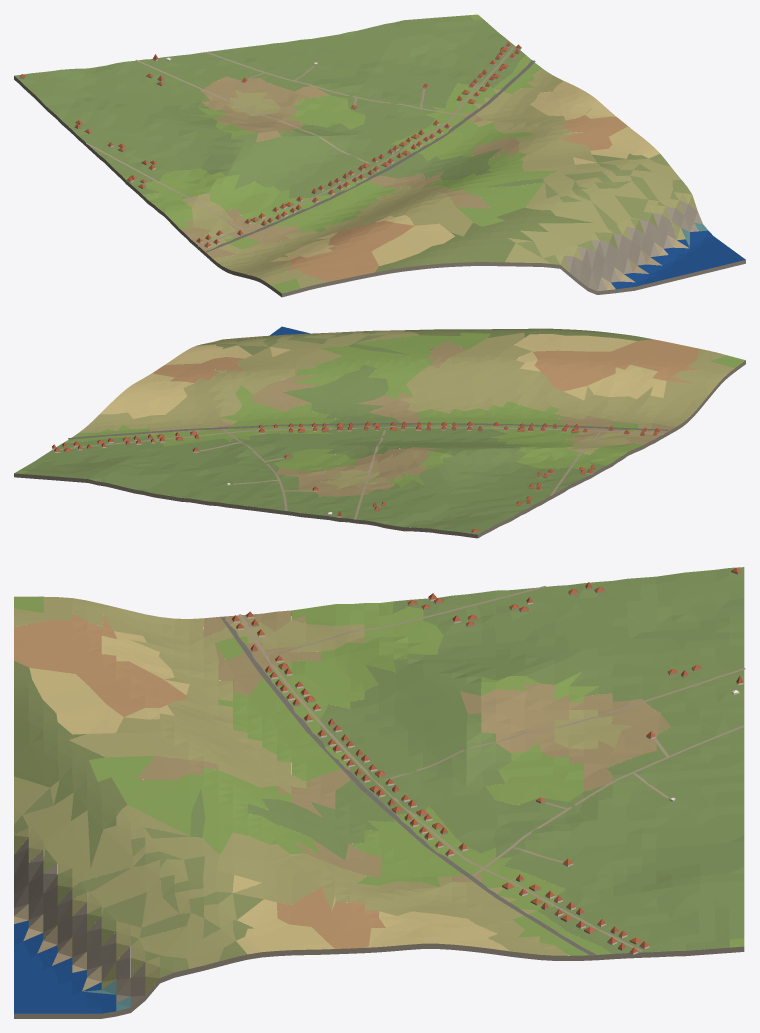
File: parca_+11_-7-uzak.glb
3 renders of one model, top to bottom at view 1: azimuth 30°, elevation 25°; view 2: azimuth 150°, elevation 25°; view 3: azimuth 270°, elevation 25°, orthographic. The views are drawn at different scales.
Visible parts, largest first — view 1: parca_+11_-7_arazi_uzak, parca_+11_-7_yollar_uzak, parca_+11_-7_yapilar_uzak; view 2: parca_+11_-7_arazi_uzak, parca_+11_-7_yollar_uzak, parca_+11_-7_yapilar_uzak; view 3: parca_+11_-7_arazi_uzak, parca_+11_-7_yollar_uzak, parca_+11_-7_yapilar_uzak.
Boxes of the visible parts, x1,y1,x2,y2 form: parca_+11_-7_arazi_uzak: (14,14,745,297); parca_+11_-7_yollar_uzak: (86,46,535,252); parca_+11_-7_yapilar_uzak: (19,42,521,247); parca_+11_-7_arazi_uzak: (14,326,745,538); parca_+11_-7_yollar_uzak: (52,423,668,519); parca_+11_-7_yapilar_uzak: (52,421,660,532); parca_+11_-7_arazi_uzak: (14,567,744,1018); parca_+11_-7_yollar_uzak: (220,586,745,955); parca_+11_-7_yapilar_uzak: (231,567,743,954).
Bounding box in the file's own units: 1009 × 221 × 1002.
